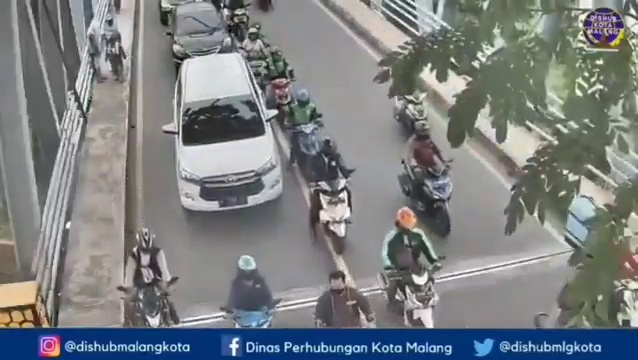car: (171, 56, 286, 215), (168, 5, 233, 66)
motorbike: (378, 206, 439, 331), (399, 122, 455, 234), (122, 227, 179, 328), (302, 141, 352, 255), (220, 249, 274, 328), (282, 90, 322, 179), (262, 48, 295, 129), (244, 27, 268, 84)
